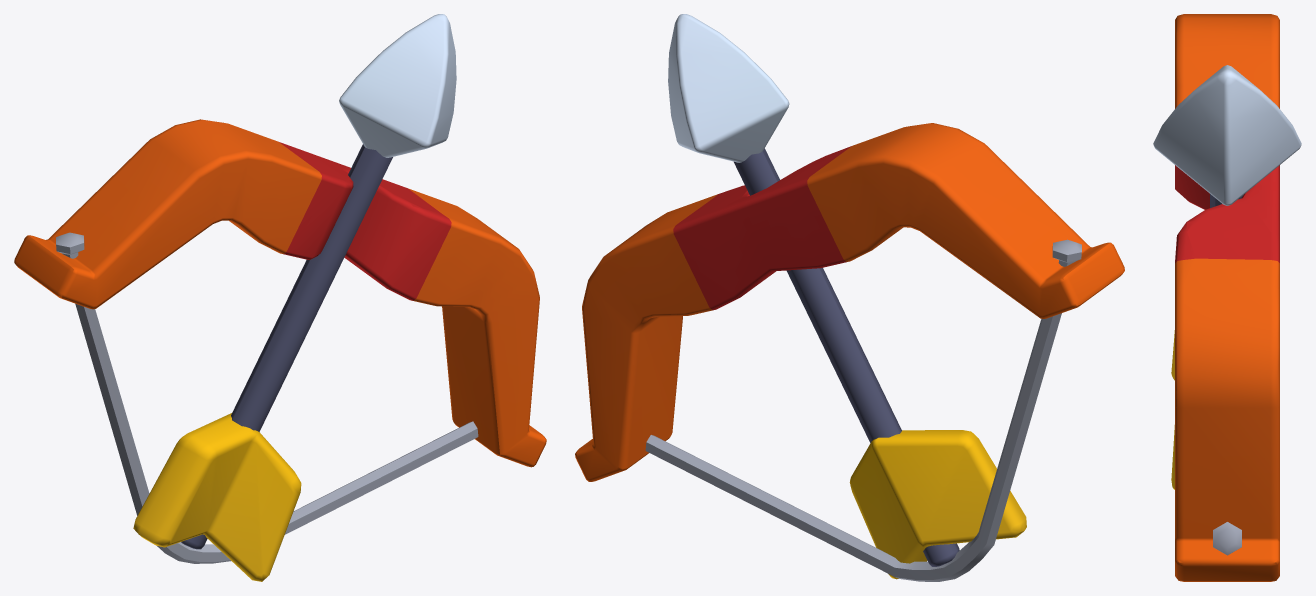
3 views of the same model, side by side, from view 1: azimuth 30°, elevation 25°; view 2: azimuth 150°, elevation 25°; view 3: azimuth 270°, elevation 25° (orthographic). The views are drawn at different scales.
Visible parts, largest first — view 1: model_0.016; view 2: model_0.016; view 3: model_0.016.
Boxes of the visible parts, box(x1,y1,x2,y2) form: model_0.016: box(14, 14, 546, 581); model_0.016: box(575, 14, 1124, 581); model_0.016: box(1153, 14, 1301, 581).
Size of the model in its own units: 4.28 by 4.22 by 1.07.
